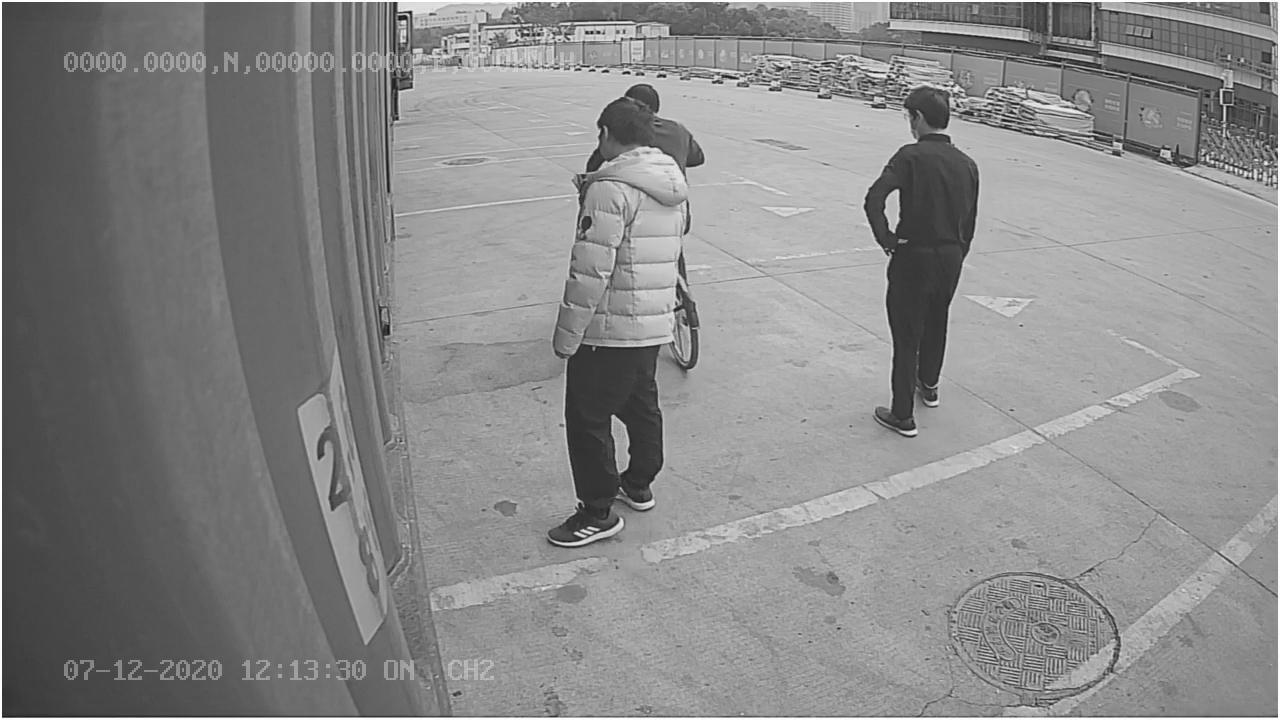person: (858, 79, 985, 441)
